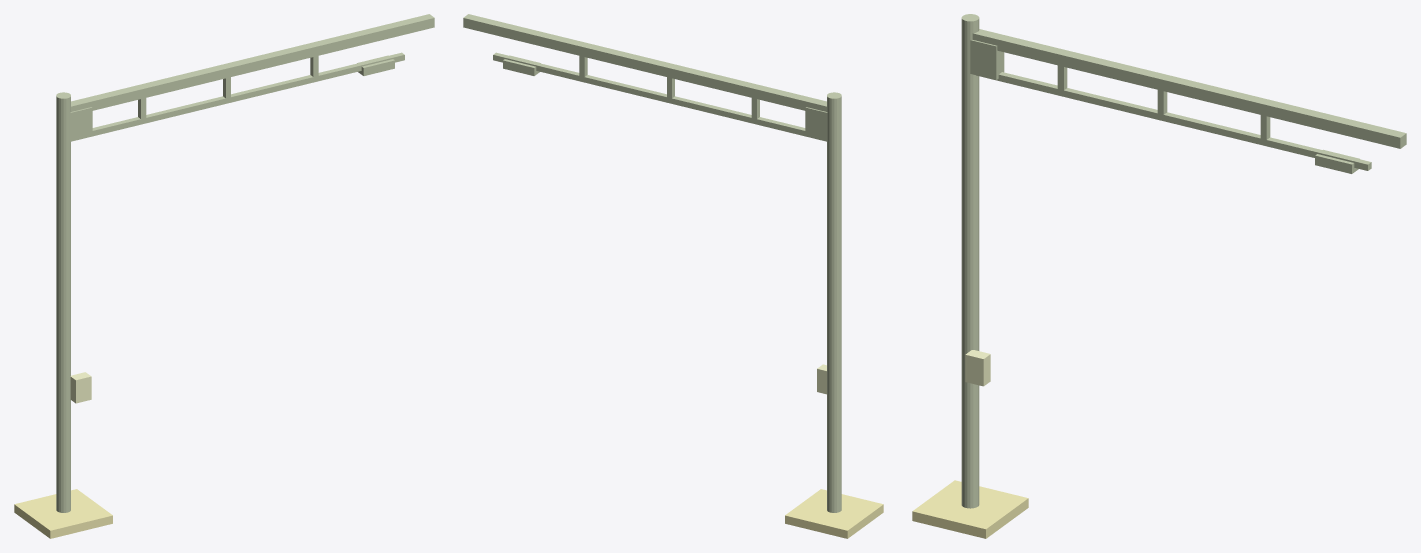
File: furniture_signal_cantilever_frame.glb
The picture shows the model from 3 angles, left to right: view 1: azimuth 30°, elevation 25°; view 2: azimuth 150°, elevation 25°; view 3: azimuth 330°, elevation 25°; orthographic projection. The views are drawn at different scales.
Parts seen in each view (by area): view 1: mast, truss_top, base_pad, truss_bottom, joint_plate, service_box; view 2: mast, truss_top, base_pad, truss_bottom, joint_plate; view 3: mast, truss_top, base_pad, truss_bottom, joint_plate, service_box.
Part boxes in pixels (bbox=[...]): mast: bbox=[56, 92, 70, 512]; truss_top: bbox=[71, 14, 434, 111]; base_pad: bbox=[14, 489, 112, 538]; truss_bottom: bbox=[71, 52, 404, 141]; joint_plate: bbox=[70, 107, 92, 141]; service_box: bbox=[70, 372, 91, 403]; mast: bbox=[827, 92, 841, 512]; truss_top: bbox=[463, 14, 826, 111]; base_pad: bbox=[785, 489, 883, 538]; truss_bottom: bbox=[493, 52, 826, 141]; joint_plate: bbox=[805, 107, 827, 141]; mast: bbox=[961, 14, 979, 508]; truss_top: bbox=[972, 29, 1406, 148]; base_pad: bbox=[912, 480, 1028, 538]; truss_bottom: bbox=[976, 72, 1371, 170]; joint_plate: bbox=[970, 40, 1004, 79]; service_box: bbox=[965, 350, 990, 386].
Bounding box in the file's own units: 6.12 × 6.18 × 0.96.
